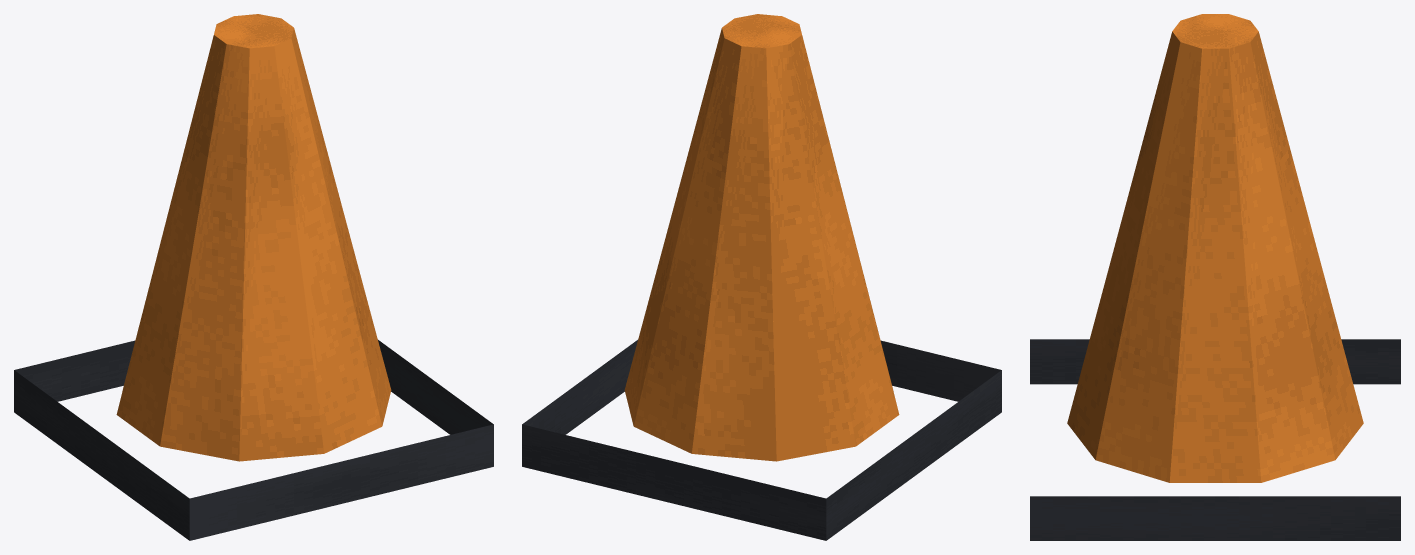
The model's file is prop_cone.glb.
3 renders of one model, left to right at view 1: azimuth 30°, elevation 25°; view 2: azimuth 150°, elevation 25°; view 3: azimuth 270°, elevation 25°, orthographic. The views are drawn at different scales.
Parts seen in each view (by area): view 1: prop_cone; view 2: prop_cone; view 3: prop_cone.
Part boxes in pixels (x1=…): prop_cone: x1=14, y1=14, x2=493, y2=540; prop_cone: x1=522, y1=14, x2=1001, y2=540; prop_cone: x1=1030, y1=14, x2=1400, y2=540.
Bounding box in the file's own units: 0.6 × 0.77 × 0.6.
Materials: 1 (1 with a texture image).
